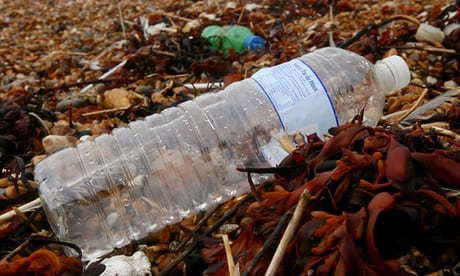bottle: (34, 46, 411, 254), (200, 25, 266, 59)
